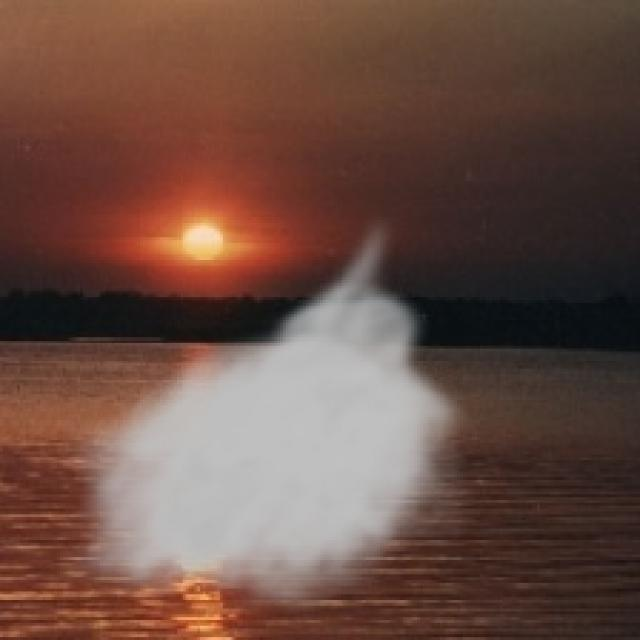Smoke: (54, 212, 474, 614)
